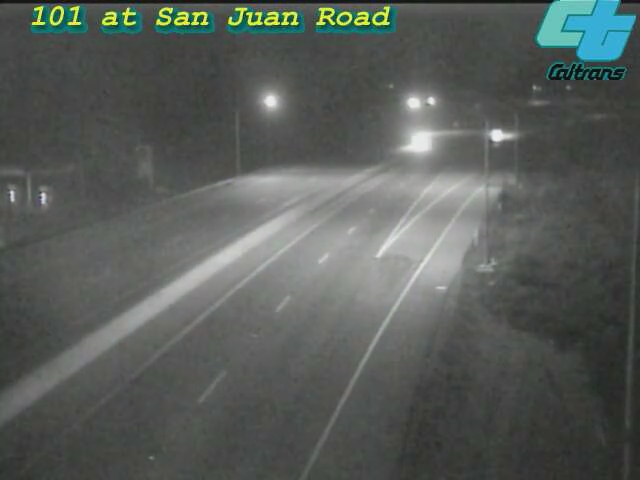vehicle: (393, 117, 443, 167), (472, 109, 522, 159)
